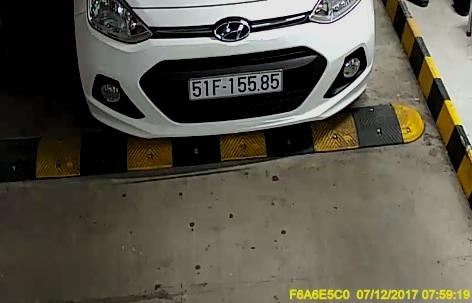plate: (187, 69, 287, 104)
